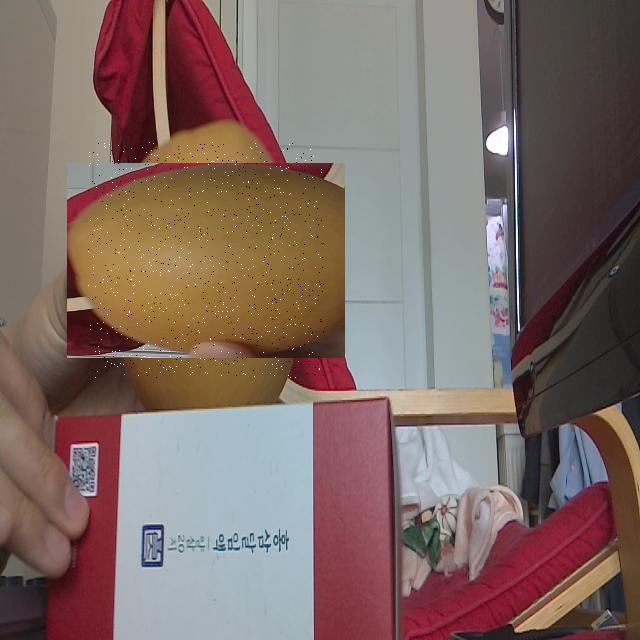pear: (88, 142, 324, 378)
